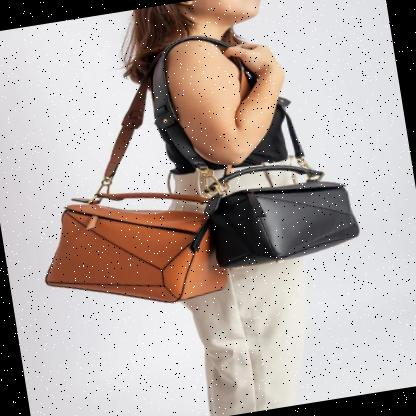bag: (31, 172, 231, 322), (194, 146, 372, 280)
person: (121, 0, 344, 416)
